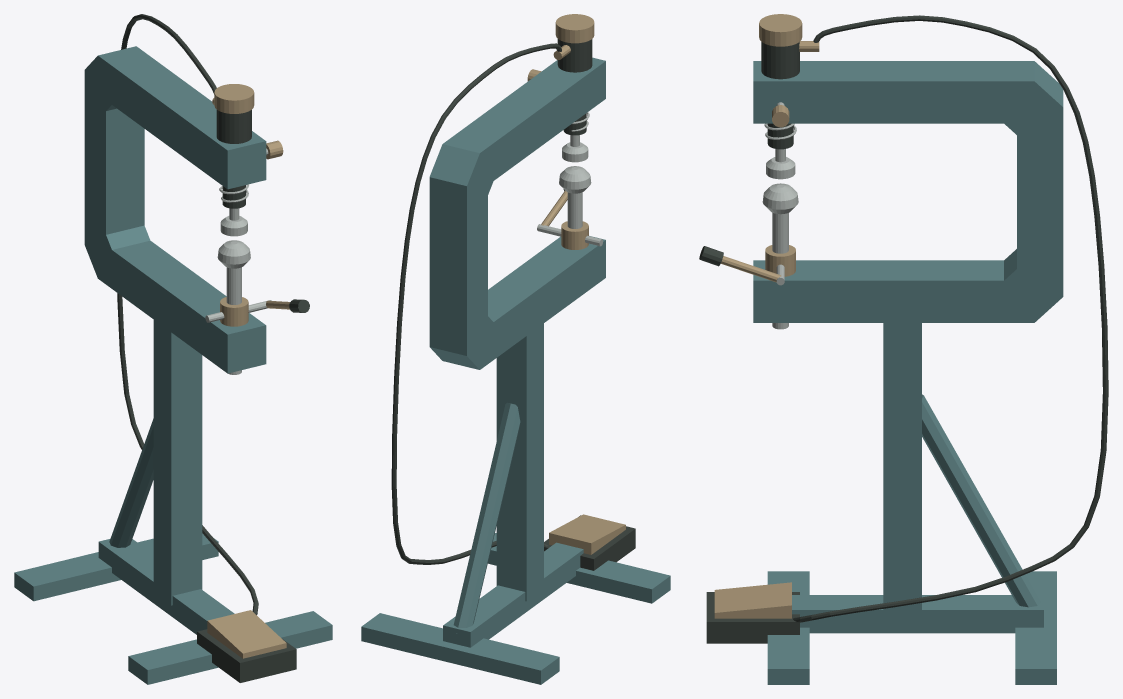
3 views of the same model, side by side, from view 1: azimuth 30°, elevation 25°; view 2: azimuth 150°, elevation 25°; view 3: azimuth 270°, elevation 25° (orthographic). The views are drawn at different scales.
Visible parts, largest first — view 1: WholeConnectedDeepCFrame, WholeCentralUprightStand, WholeTransverseGroundFoot0, WholeLowForeAftStandTie, WholeTransverseGroundFoot1, WholeLowFootPedalHousing, WholeRaisedPedalTread, WholeReturningExteriorControlHose, WholeDiagonalRearStandBrace, WholeProudUpperHeadCap, WholeUpperPneumaticHeadExterior, WholeLowCrownedLowerAnvil (+2 smaller); view 2: WholeConnectedDeepCFrame, WholeCentralUprightStand, WholeTransverseGroundFoot1, WholeDiagonalRearStandBrace, WholeLowForeAftStandTie, WholeReturningExteriorControlHose, WholeTransverseGroundFoot0, WholeRaisedPedalTread, WholeLowFootPedalHousing, WholeProudUpperHeadCap, WholeUpperPneumaticHeadExterior, WholeLowCrownedLowerAnvil (+2 smaller); view 3: WholeConnectedDeepCFrame, WholeCentralUprightStand, WholeLowForeAftStandTie, WholeReturningExteriorControlHose, WholeDiagonalRearStandBrace, WholeTransverseGroundFoot1, WholeTransverseGroundFoot0, WholeRaisedPedalTread, WholeLowFootPedalHousing, WholeUpperPneumaticHeadExterior, WholeProudUpperHeadCap, WholeLowCrownedLowerAnvil (+2 smaller).
Boxes of the visible parts, x1=… form: WholeConnectedDeepCFrame: x1=84, y1=46, x2=266, y2=373; WholeCentralUprightStand: x1=153, y1=320, x2=202, y2=605; WholeTransverseGroundFoot0: x1=128, y1=611, x2=332, y2=684; WholeLowForeAftStandTie: x1=98, y1=539, x2=234, y2=634; WholeTransverseGroundFoot1: x1=14, y1=533, x2=218, y2=601; WholeLowFootPedalHousing: x1=197, y1=629, x2=296, y2=682; WholeRaisedPedalTread: x1=207, y1=610, x2=286, y2=658; WholeReturningExteriorControlHose: x1=117, y1=14, x2=258, y2=614; WholeDiagonalRearStandBrace: x1=109, y1=418, x2=153, y2=547; WholeProudUpperHeadCap: x1=214, y1=84, x2=254, y2=113; WholeUpperPneumaticHeadExterior: x1=216, y1=110, x2=251, y2=143; WholeLowCrownedLowerAnvil: x1=217, y1=240, x2=250, y2=268; WholeConnectedDeepCFrame: x1=429, y1=57, x2=605, y2=369; WholeCentralUprightStand: x1=496, y1=323, x2=543, y2=601; WholeTransverseGroundFoot1: x1=361, y1=613, x2=559, y2=684; WholeDiagonalRearStandBrace: x1=453, y1=402, x2=520, y2=633; WholeLowForeAftStandTie: x1=443, y1=542, x2=583, y2=647; WholeReturningExteriorControlHose: x1=391, y1=43, x2=561, y2=564; WholeTransverseGroundFoot0: x1=488, y1=533, x2=670, y2=603; WholeRaisedPedalTread: x1=549, y1=514, x2=625, y2=554; WholeLowFootPedalHousing: x1=544, y1=515, x2=635, y2=570; WholeProudUpperHeadCap: x1=555, y1=14, x2=594, y2=43; WholeUpperPneumaticHeadExterior: x1=557, y1=39, x2=592, y2=72; WholeLowCrownedLowerAnvil: x1=559, y1=166, x2=591, y2=193; WholeConnectedDeepCFrame: x1=753, y1=61, x2=1063, y2=322; WholeCentralUprightStand: x1=883, y1=323, x2=921, y2=620; WholeLowForeAftStandTie: x1=792, y1=595, x2=1043, y2=633; WholeReturningExteriorControlHose: x1=793, y1=15, x2=1108, y2=622; WholeDiagonalRearStandBrace: x1=922, y1=394, x2=1044, y2=608; WholeTransverseGroundFoot1: x1=1015, y1=571, x2=1056, y2=684; WholeTransverseGroundFoot0: x1=767, y1=571, x2=809, y2=684; WholeRaisedPedalTread: x1=714, y1=582, x2=791, y2=618; WholeLowFootPedalHousing: x1=706, y1=592, x2=799, y2=643; WholeUpperPneumaticHeadExterior: x1=761, y1=42, x2=799, y2=79; WholeProudUpperHeadCap: x1=759, y1=14, x2=802, y2=46; WholeLowCrownedLowerAnvil: x1=762, y1=183, x2=798, y2=214.
Size of the model in its own units: 0.72 by 2.14 by 1.27.
